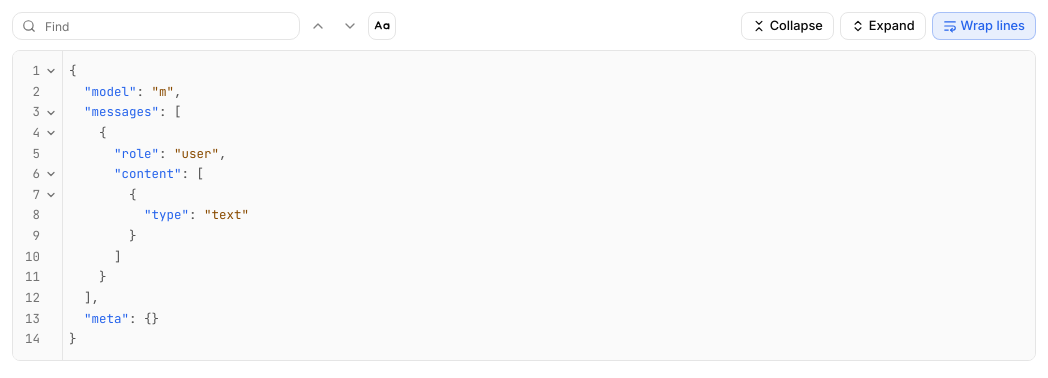
Test case: JsonViewer › jumps to the first match as you type and steps through the rest
In the field labelled "Find": point(156, 26) [12, 12, 300, 40], type "me"
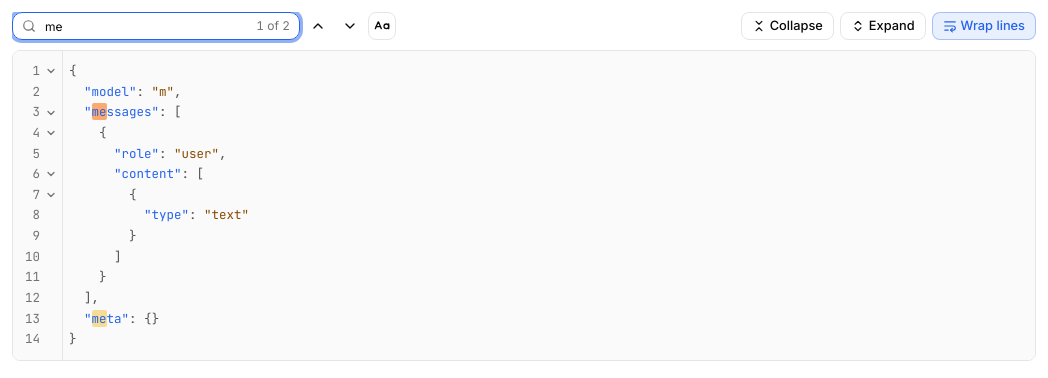
Now the text "1 of 2" is shown, box [256, 18, 290, 34]
Press Enter
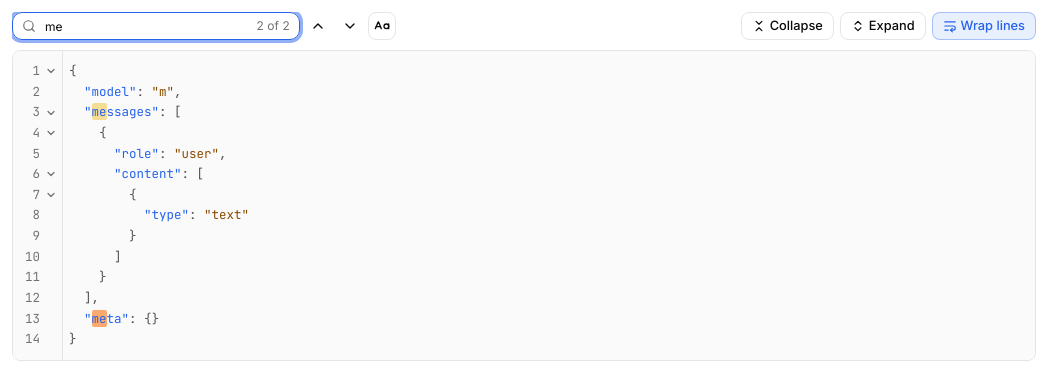
Now the text "2 of 2" is shown, box [256, 18, 290, 34]
Press Enter
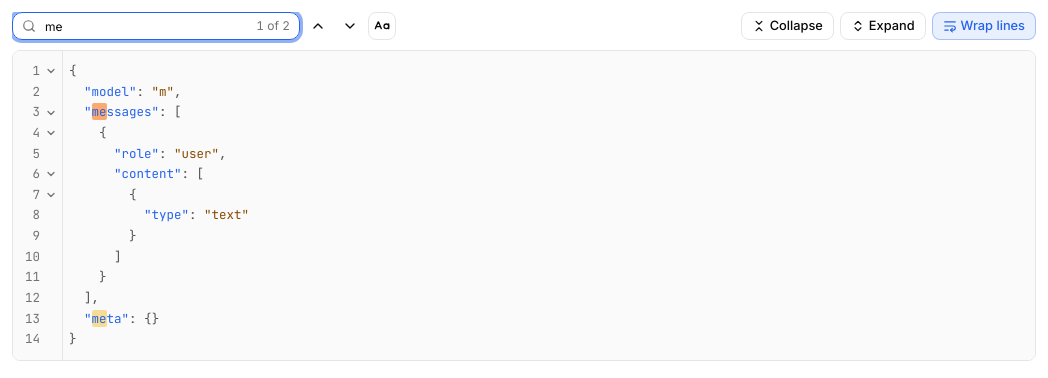
Now the text "1 of 2" is shown, box [256, 18, 290, 34]
Click the button named "Previous match": point(318, 26) [304, 12, 332, 40]
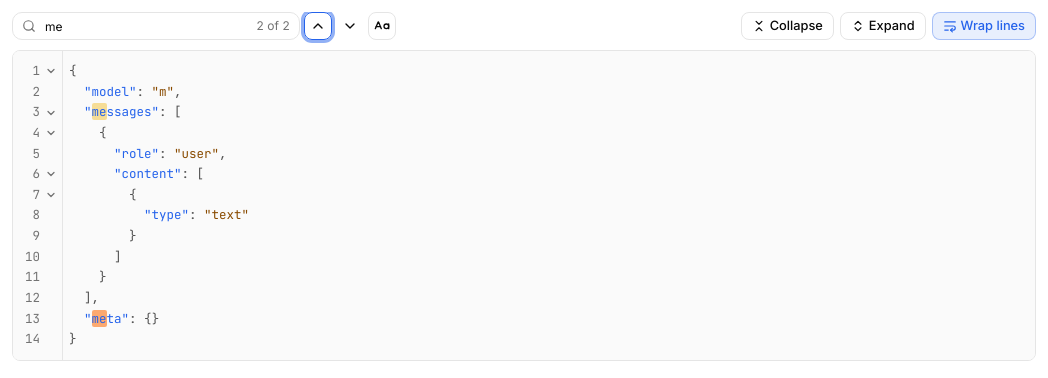
Now the text "2 of 2" is shown, box [256, 18, 290, 34]
